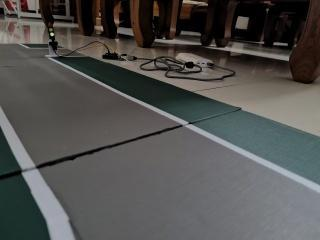green: (45, 18, 59, 43)
